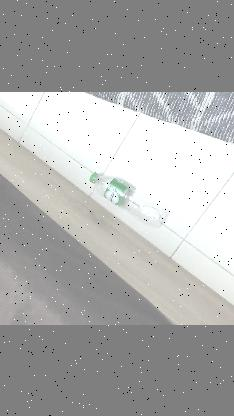Plastic Bottle: (88, 168, 172, 230)
